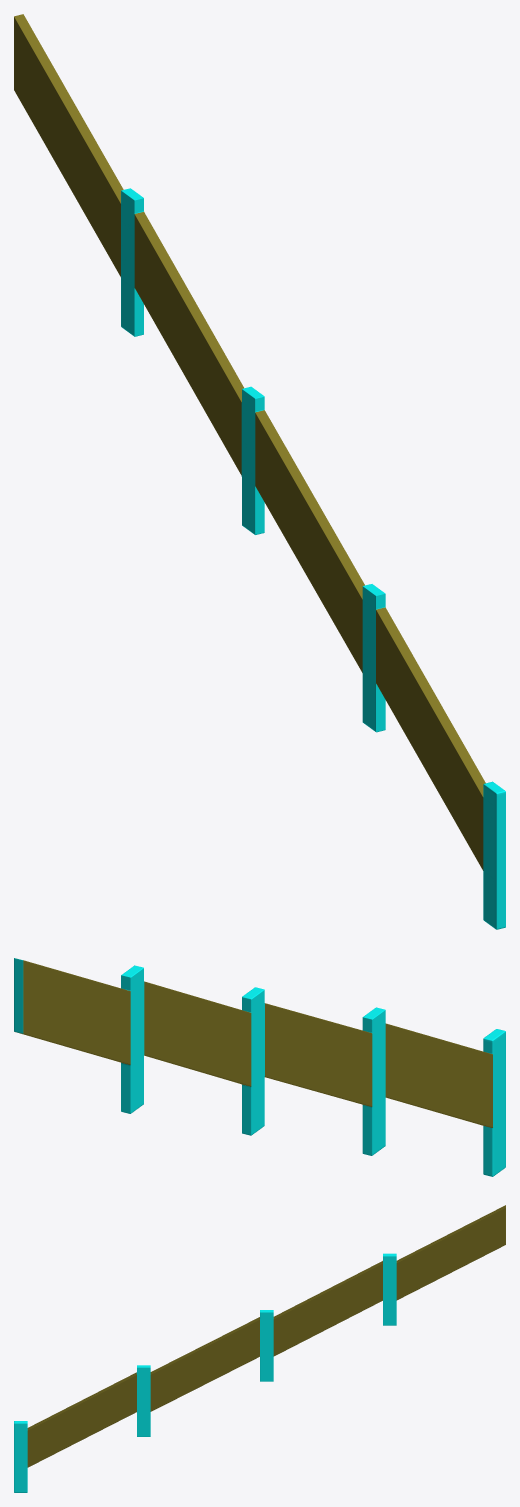
Rendered from StairsHandle.fbx.
The picture shows the model from 3 angles, top to bottom: view 1: azimuth 30°, elevation 25°; view 2: azimuth 150°, elevation 25°; view 3: azimuth 270°, elevation 25°; orthographic projection. The views are drawn at different scales.
Visible parts, largest first — view 1: StairHandle_High (×2); view 2: StairHandle_High (×2); view 3: StairHandle_High (×2).
Boxes of the visible parts, <box> form: StairHandle_High (×2): <box>14,14,505,929</box>; StairHandle_High (×2): <box>14,958,505,1176</box>; StairHandle_High (×2): <box>14,1205,505,1492</box>.
Bounding box in the file's own units: 0.1854 × 10.25 × 16.
